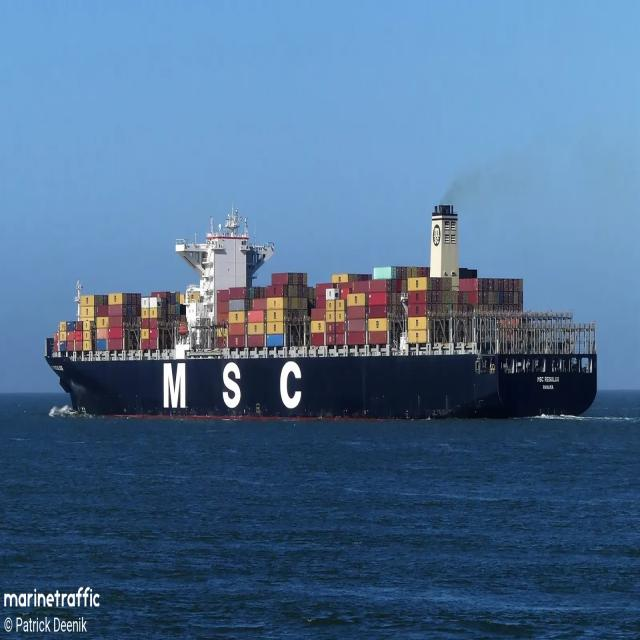Cargo: (45, 205, 596, 417)
